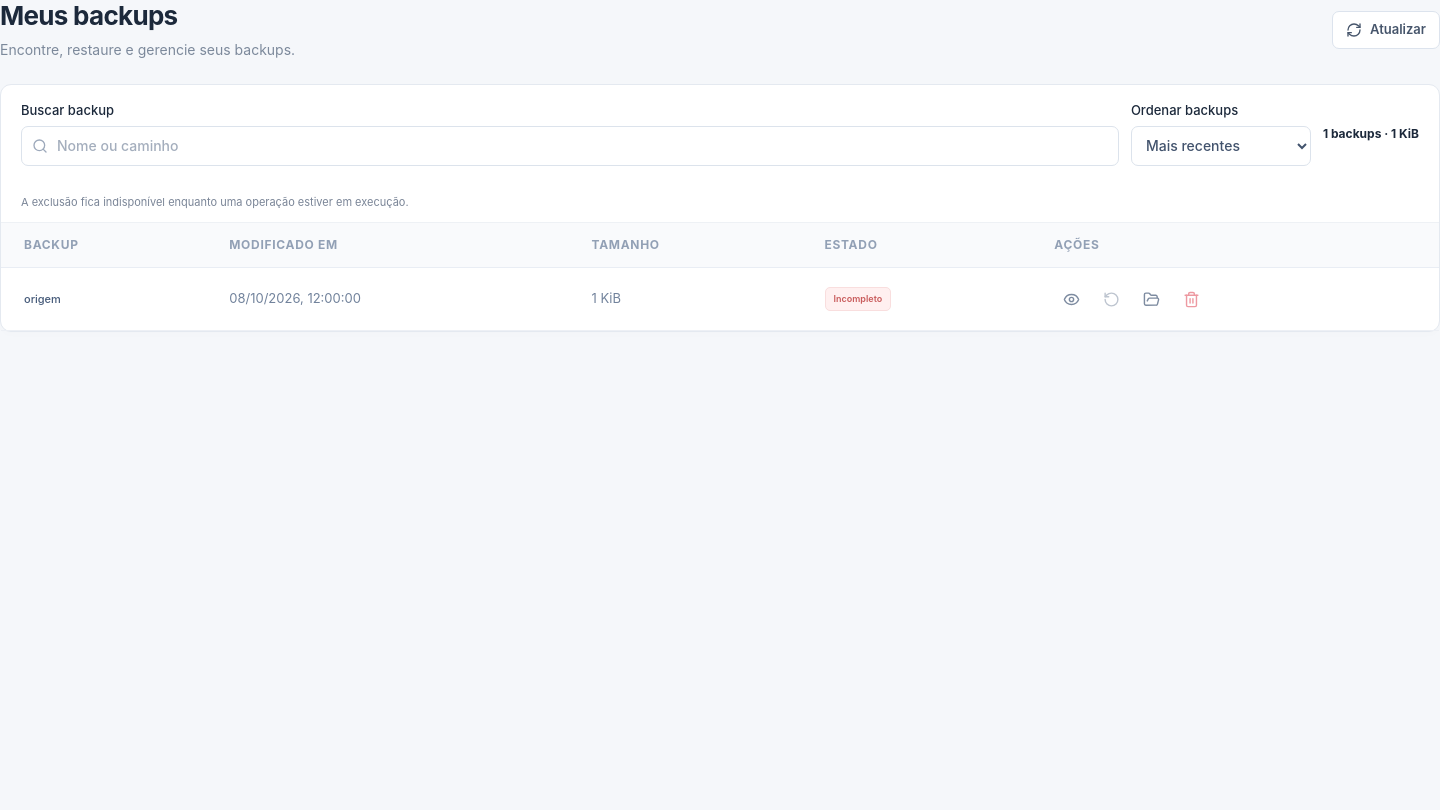
Scenario: gestão dos backups › bloqueia exclusão durante operações e impede restaurar backups incompletos
The width and height of the screenshot is (1440, 810).
Expected: the button named "Excluir origem" is disabled, [1174, 282, 1208, 316]
Expected: the button named "Restaurar origem" is disabled, [1094, 282, 1128, 316]
Click the button named "Ver detalhes de origem": (1071, 299) [1054, 282, 1088, 316]
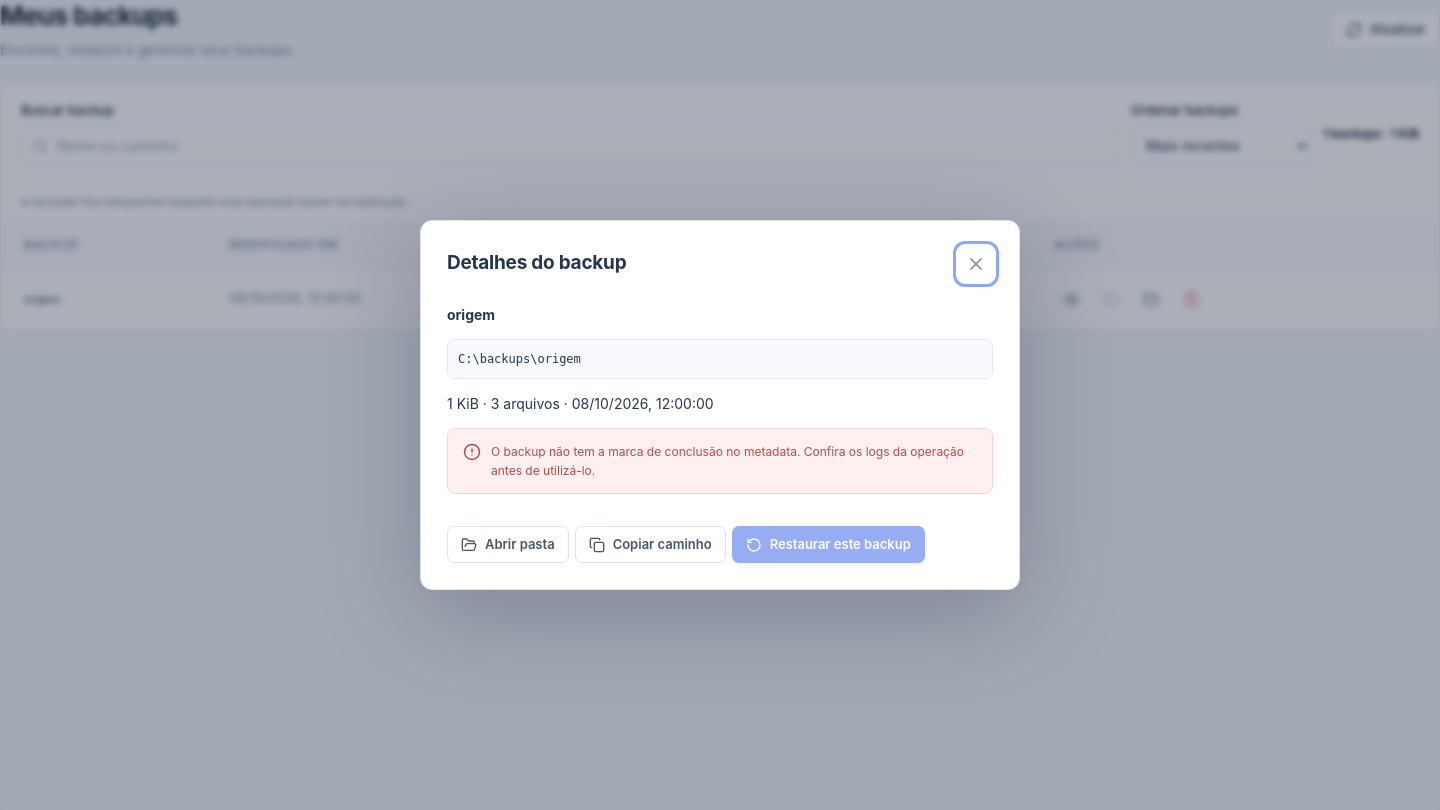
Expected: the message shows "marca de conclusão", [491, 444, 964, 478]
